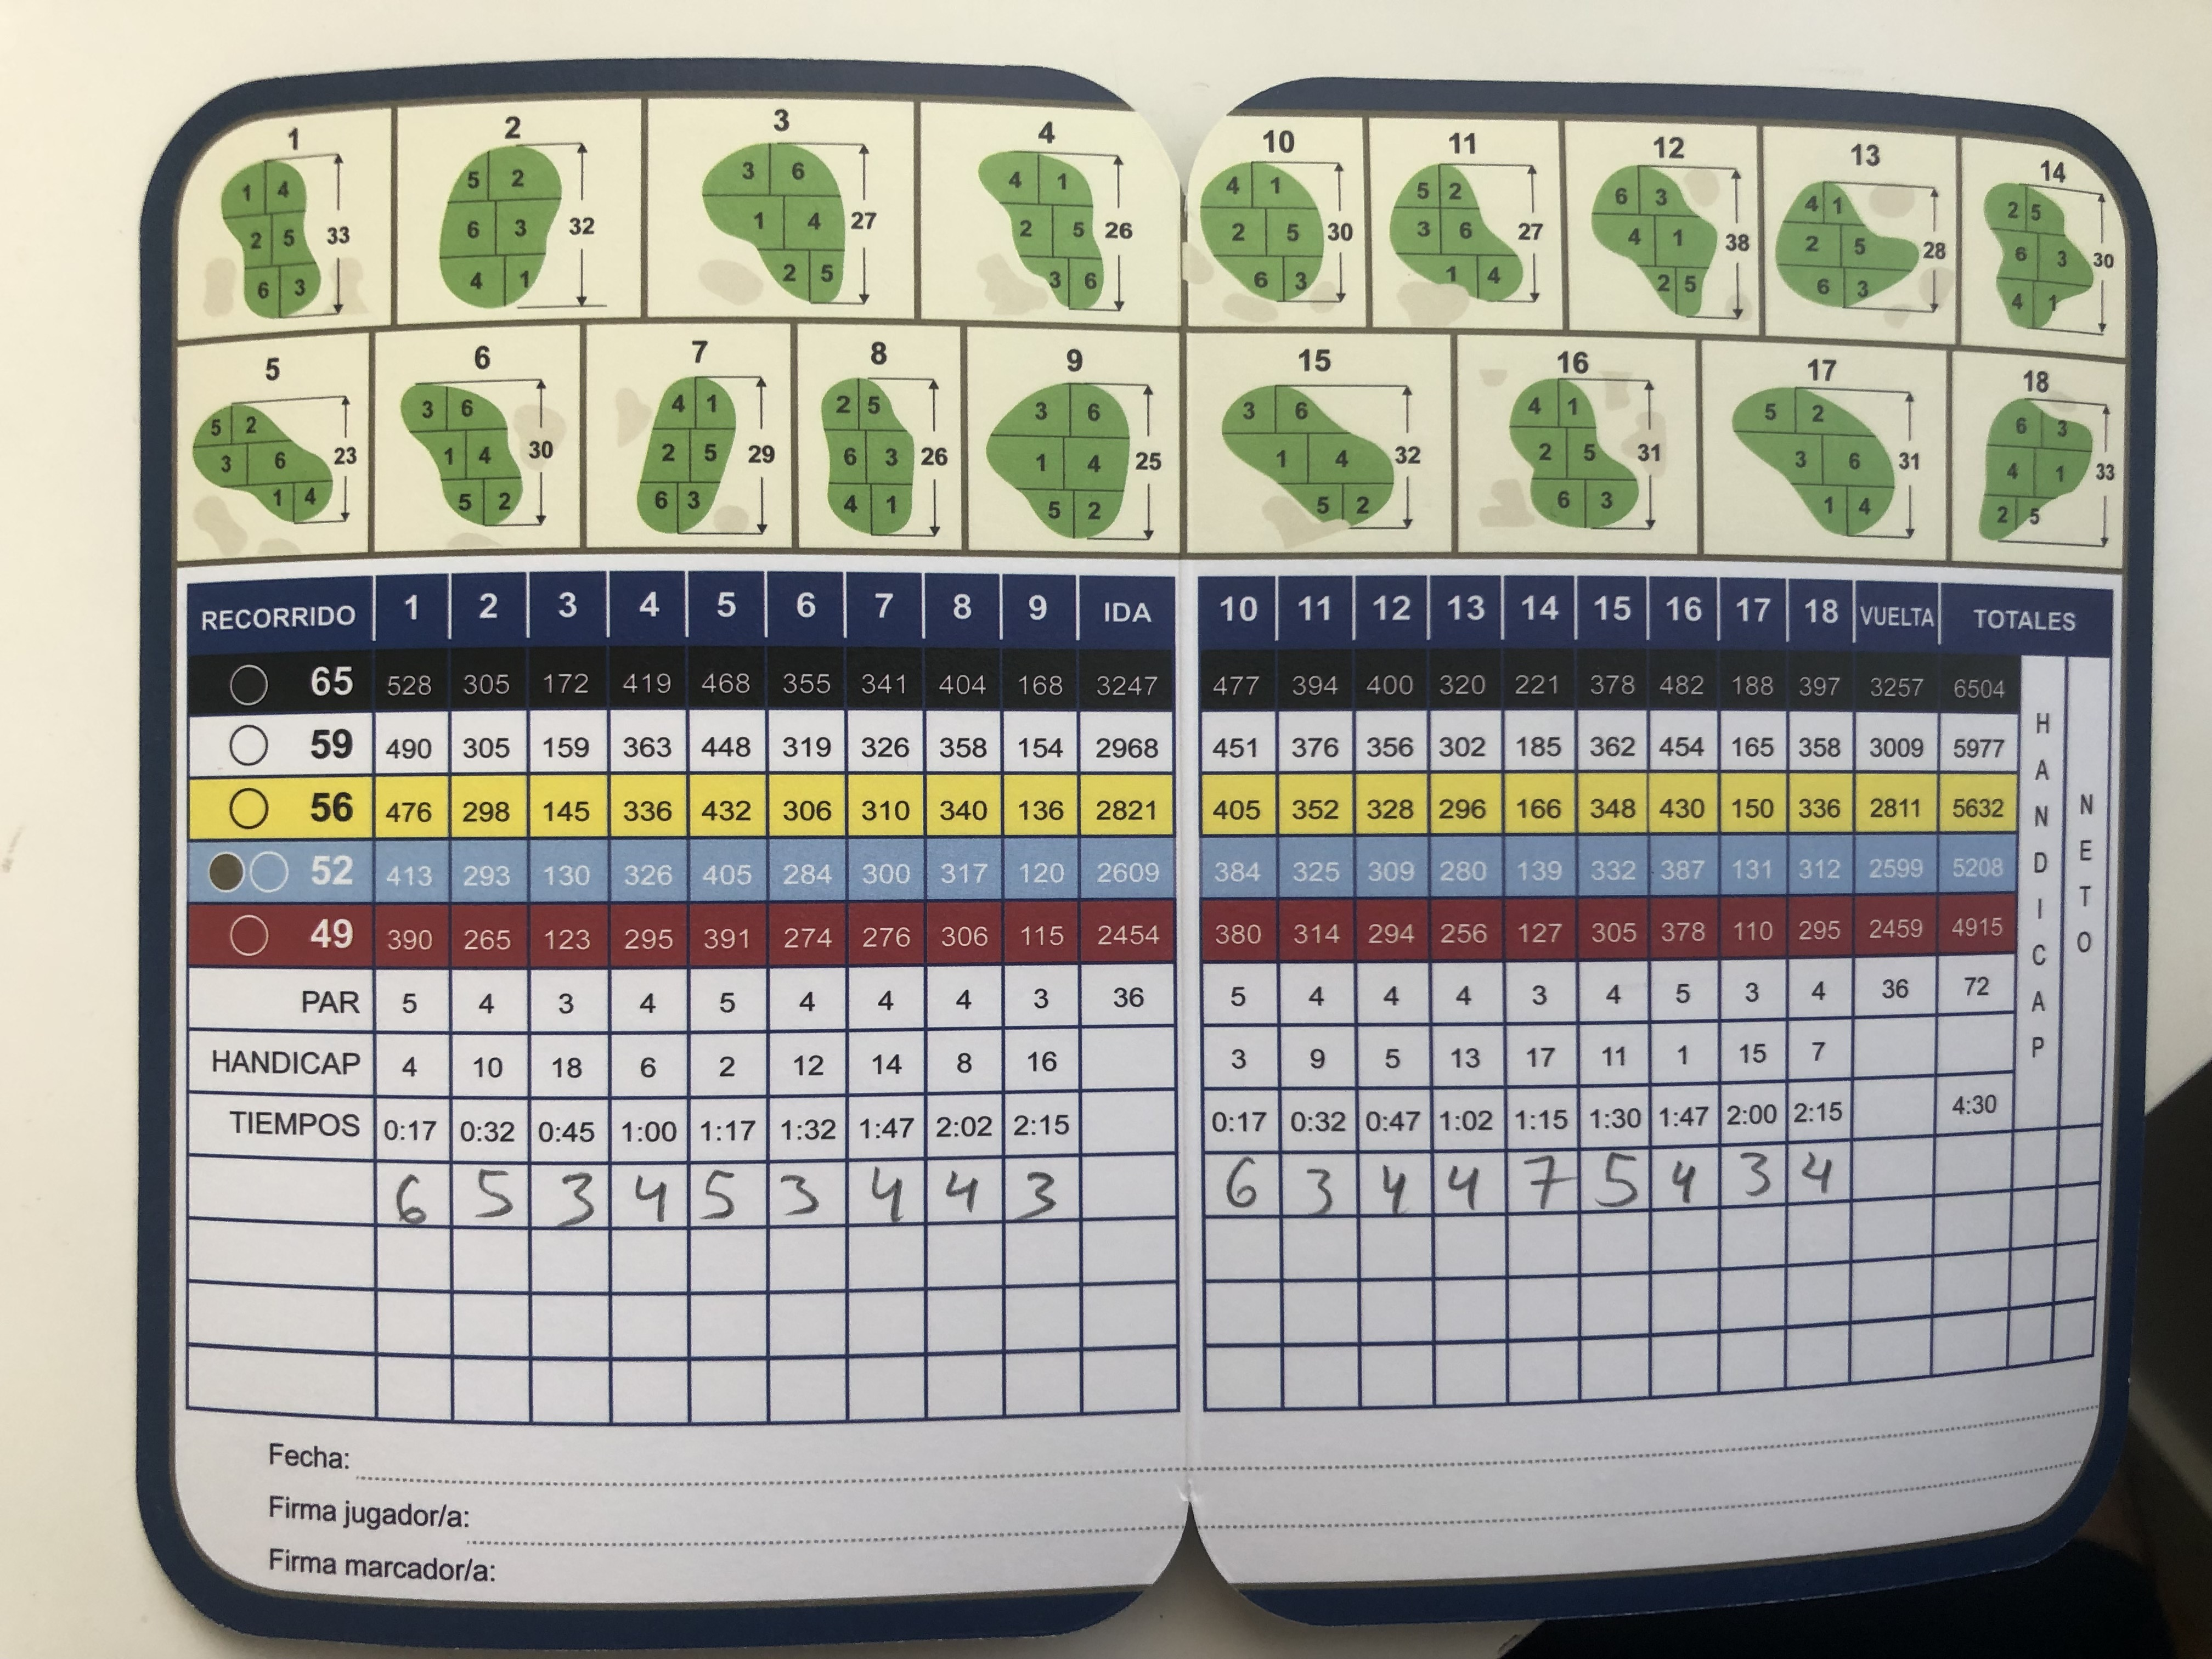par: (301, 976, 2000, 1016)
score: (387, 1150, 1832, 1225)
